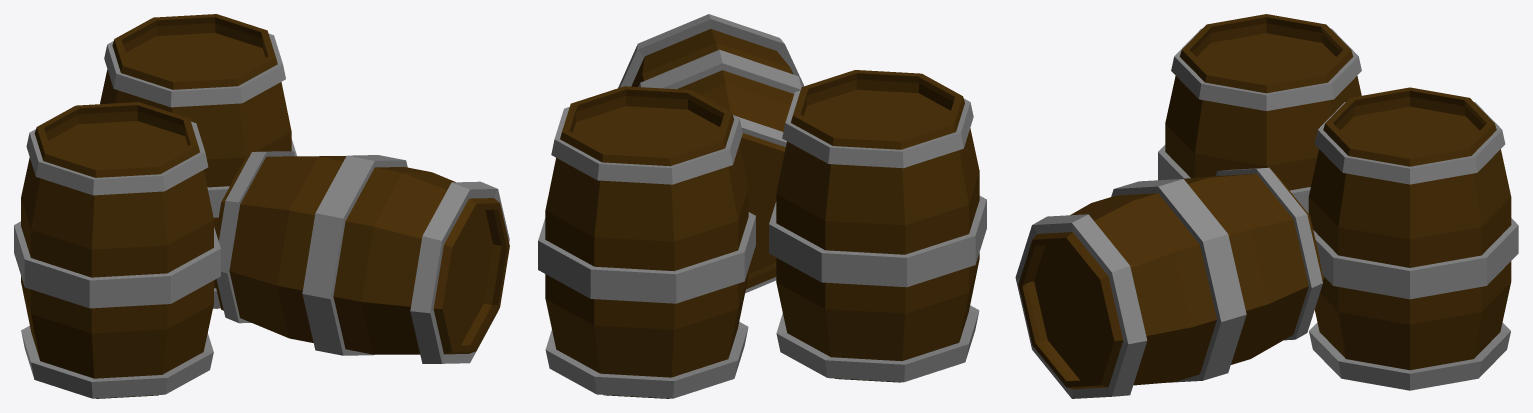
File: Terrain2.glb
3 views of the same model, side by side, from view 1: azimuth 30°, elevation 25°; view 2: azimuth 150°, elevation 25°; view 3: azimuth 270°, elevation 25° (orthographic). The views are drawn at different scales.
Parts seen in each view (by area): view 1: Barrel.002, Barrel.001, Barrel; view 2: Barrel.002, Barrel, Barrel.001; view 3: Barrel, Barrel.001, Barrel.002.
Boxes of the visible parts, <box> form: Barrel.002: <box>14,102,220,398</box>; Barrel.001: <box>214,151,509,363</box>; Barrel: <box>100,14,296,308</box>; Barrel.002: <box>769,70,986,382</box>; Barrel: <box>538,86,755,398</box>; Barrel.001: <box>618,14,803,293</box>; Barrel: <box>1308,87,1518,390</box>; Barrel.001: <box>1015,167,1324,398</box>; Barrel.002: <box>1158,14,1361,213</box>.
Size of what is drawn, in the model's own units: 3.03 by 1.6 by 3.13.
